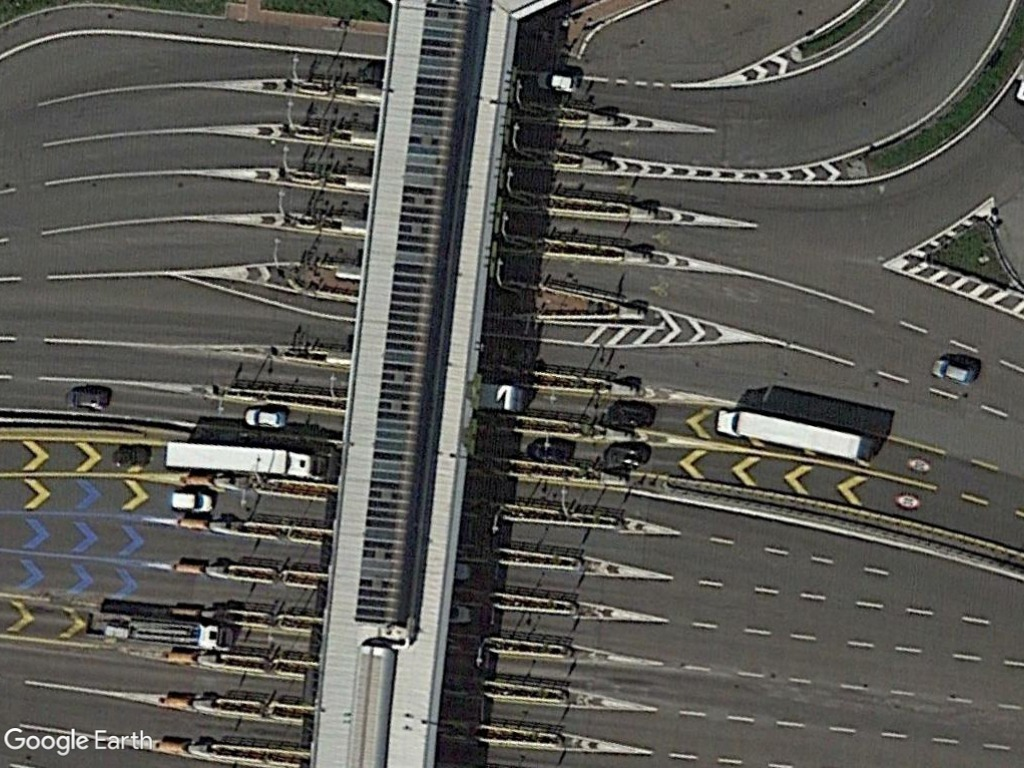car: (929, 354, 979, 389), (62, 387, 112, 412), (241, 405, 290, 429), (535, 69, 581, 94)
longvehicle: (712, 405, 873, 464), (162, 437, 335, 482)
van: (167, 487, 217, 514)
